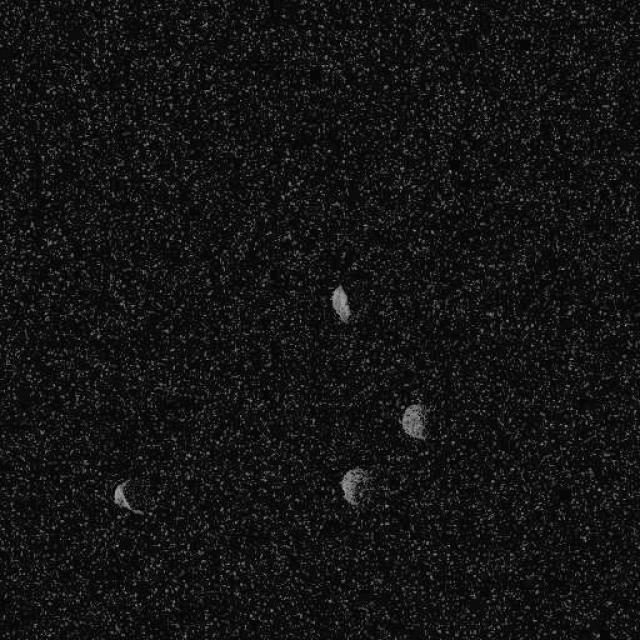D2: (338, 465, 372, 506), (111, 478, 145, 516), (398, 401, 428, 441), (329, 284, 351, 324)
